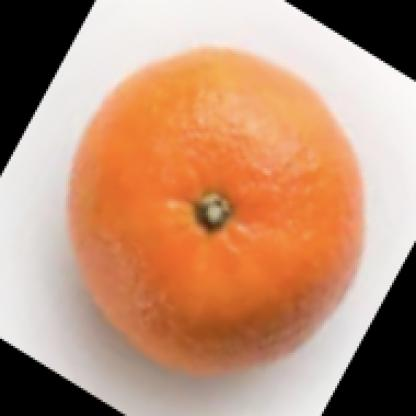fresh: (71, 51, 364, 372)
